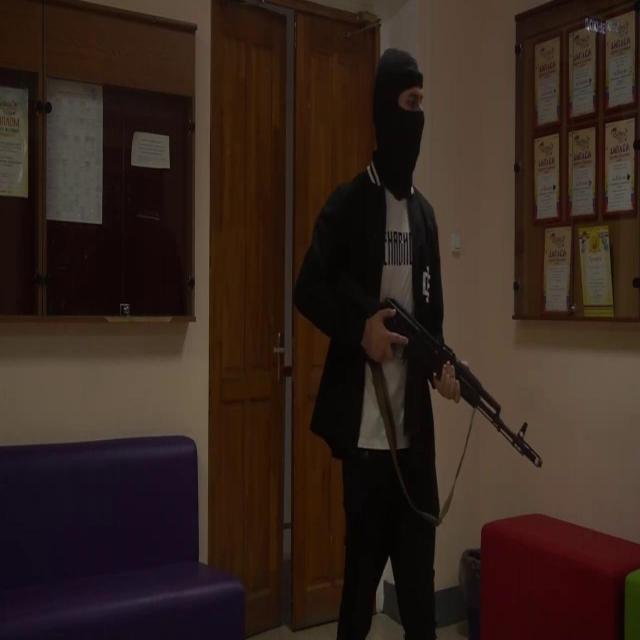gun: (294, 49, 544, 640), (330, 265, 544, 471)
